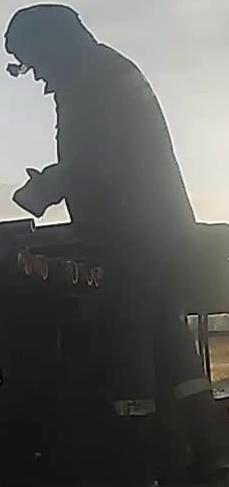gloves: (11, 164, 58, 218)
vest: (44, 49, 208, 271)
